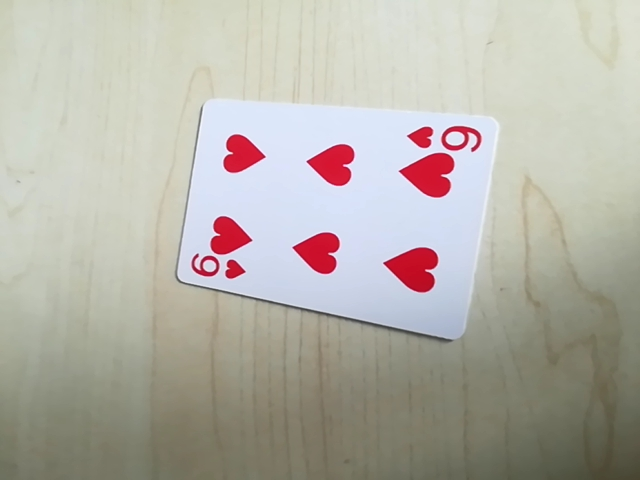hx 6: (406, 120, 484, 155), (184, 255, 247, 287)
